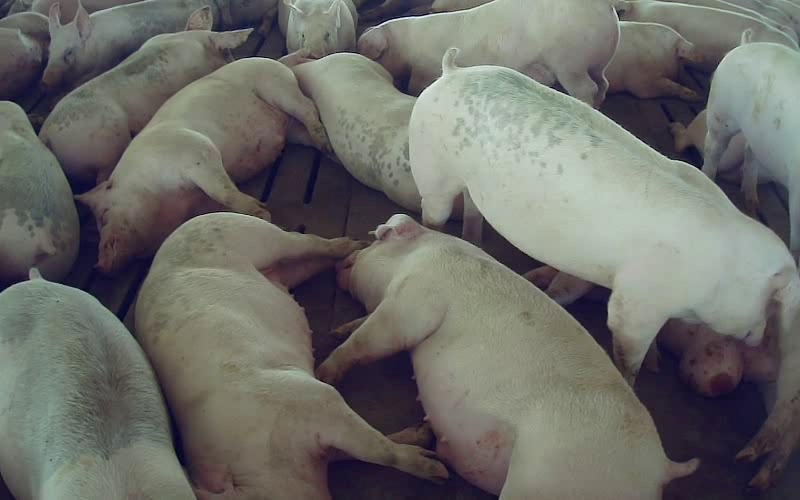pig: (409, 51, 796, 380), (318, 214, 696, 499), (136, 213, 447, 499), (78, 58, 329, 270), (40, 6, 251, 182), (358, 0, 618, 107), (279, 50, 420, 211), (703, 43, 799, 252), (278, 0, 357, 56)
